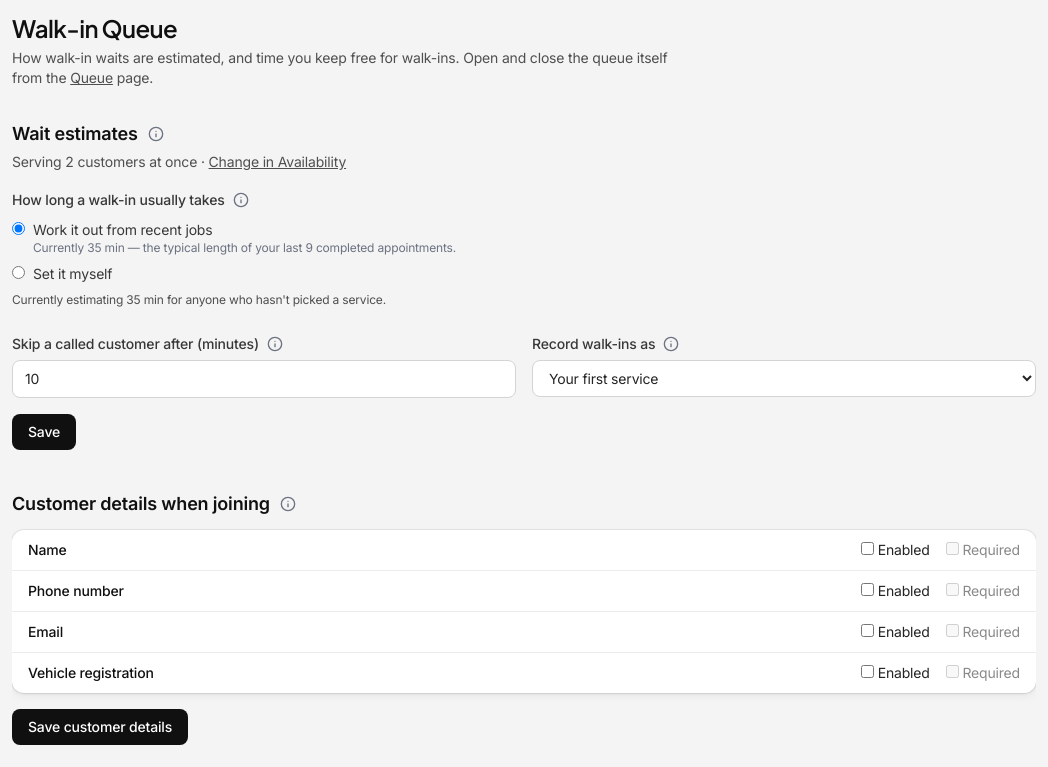
Test: WalkInQueueSettings › refuses manual mode without a figure
Click the radio button labelled "Set it myself".
click(18, 272)  # box 12,266 -> 25,279
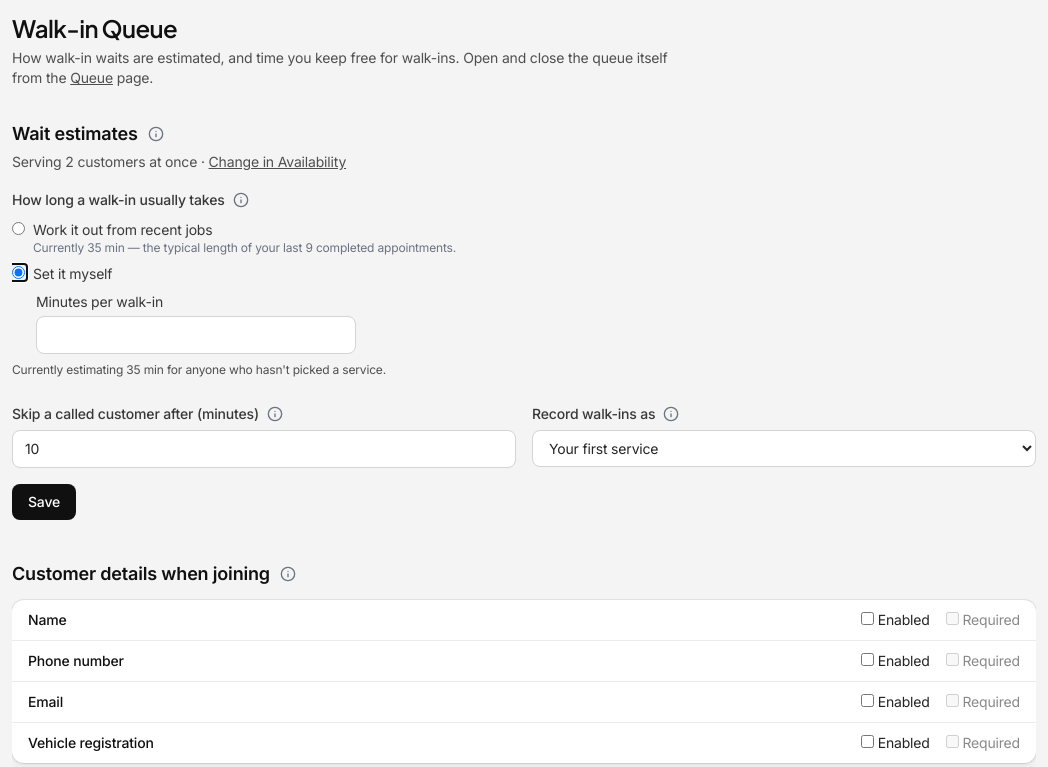
Click the button "Save".
click(44, 502)  # box 12,484 -> 76,520
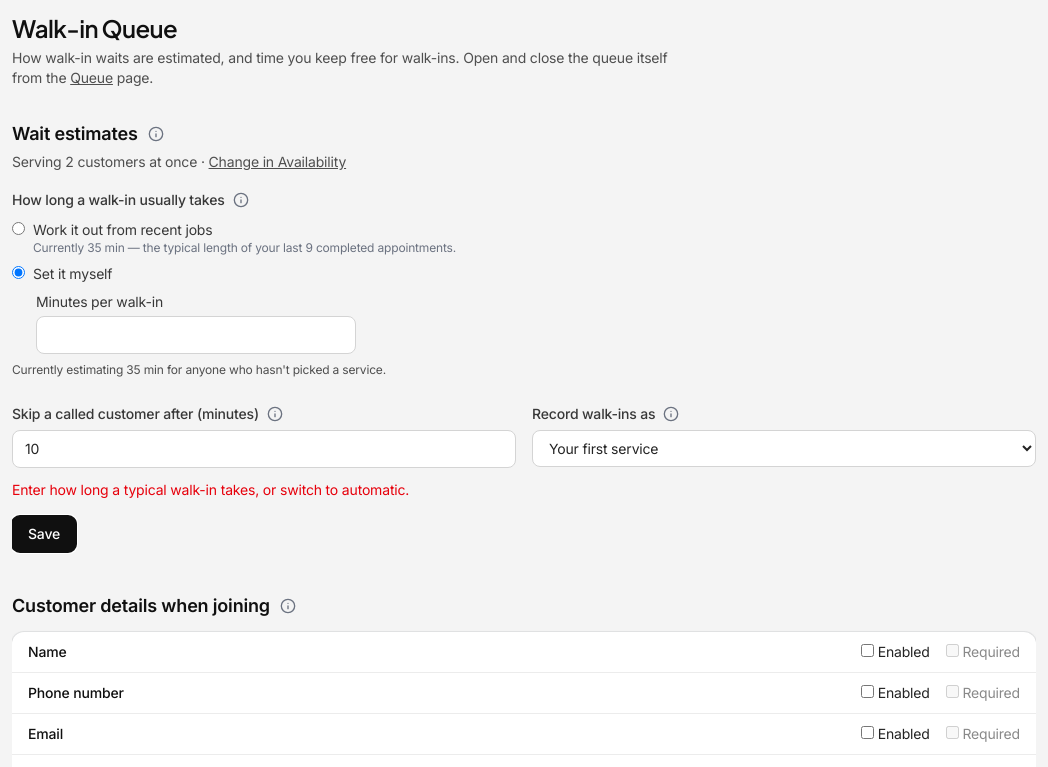
Check: the text "Enter how long a typical walk-in takes" is shown, box 12,481 -> 409,498
